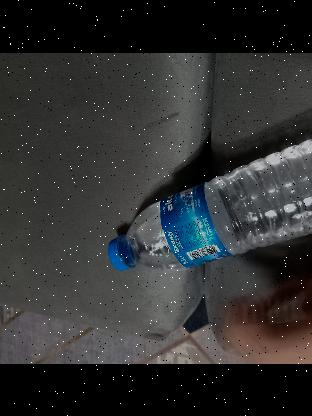Plastic Bottle: (105, 135, 312, 271)
